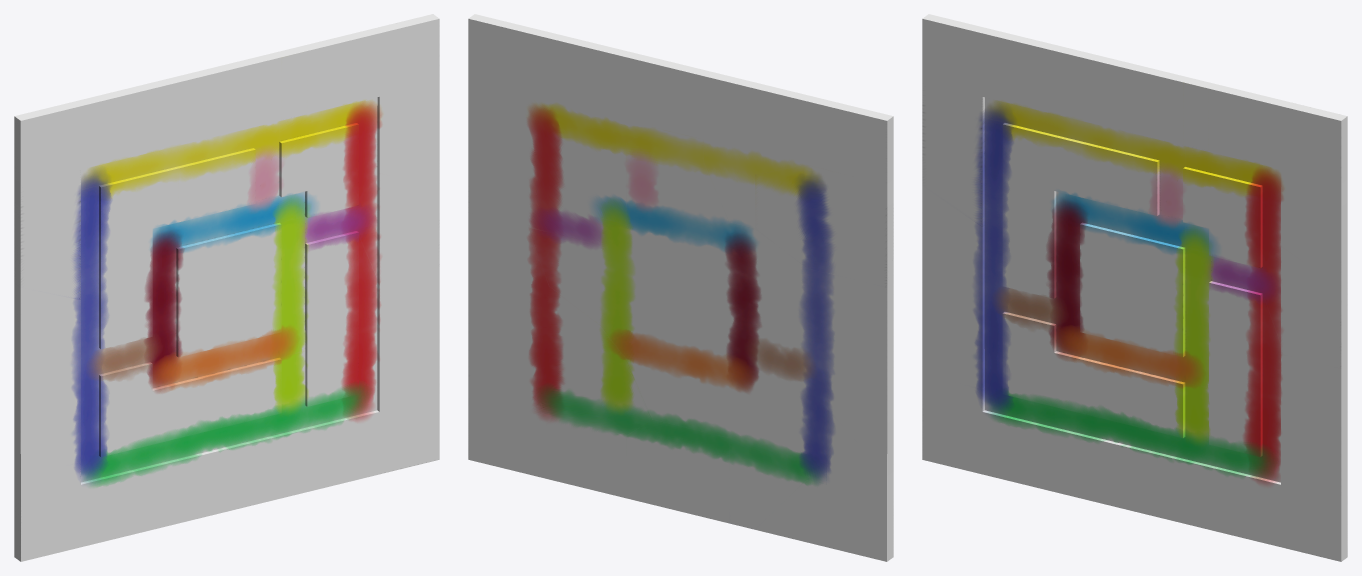
The model's file is firstTown3Painted2.fbx.
3 views of the same model, side by side, from view 1: azimuth 30°, elevation 25°; view 2: azimuth 150°, elevation 25°; view 3: azimuth 330°, elevation 25° (orthographic).
Parts seen in each view (by area): view 1: node_id5; view 2: node_id5; view 3: node_id5.
Part boxes in pixels (x1,y1,x2,y2): node_id5: (14,14,439,561); node_id5: (468,14,893,561); node_id5: (922,14,1347,561).
Bounding box in the file's own units: 0.5091 × 0.512 × 0.0136.
1 material, 1 textured.
